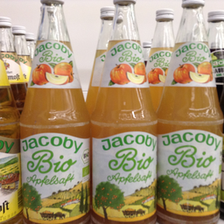juice: (17, 1, 90, 224), (90, 1, 158, 224), (157, 1, 224, 223)
